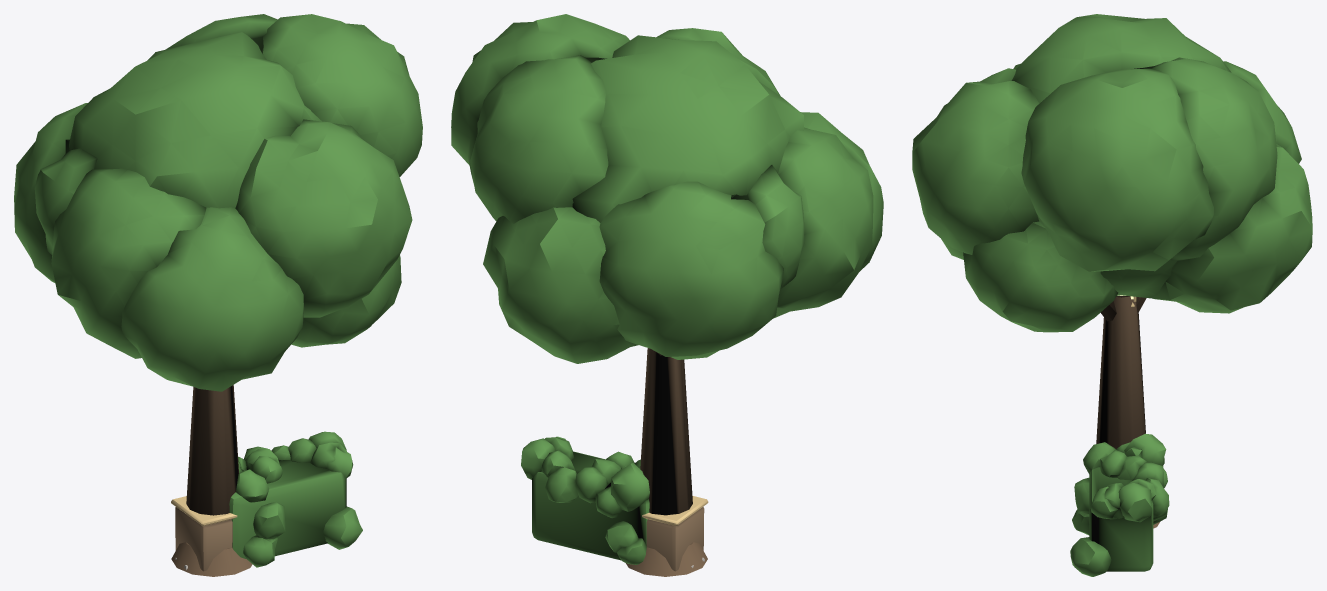
Rendered from garden.glb.
The picture shows the model from 3 angles, left to right: view 1: azimuth 30°, elevation 25°; view 2: azimuth 150°, elevation 25°; view 3: azimuth 270°, elevation 25°; orthographic projection. The views are drawn at different scales.
Parts seen in each view (by area): view 1: TreeMesh, HedgeMesh, TimberPostMesh; view 2: TreeMesh, HedgeMesh, TimberPostMesh; view 3: TreeMesh, HedgeMesh.
Part boxes in pixels (x1,y1,x2,y2): TreeMesh: (14,14,422,576); HedgeMesh: (229,431,362,567); TimberPostMesh: (171,496,237,571); TreeMesh: (451,14,883,576); HedgeMesh: (521,436,649,564); TimberPostMesh: (642,495,708,571); TreeMesh: (912,14,1312,528); HedgeMesh: (1070,433,1169,576).
Bounding box in the file's own units: 181 × 241 × 175.
